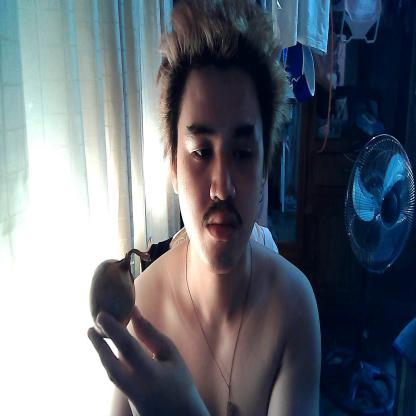onion: (85, 250, 141, 348)
